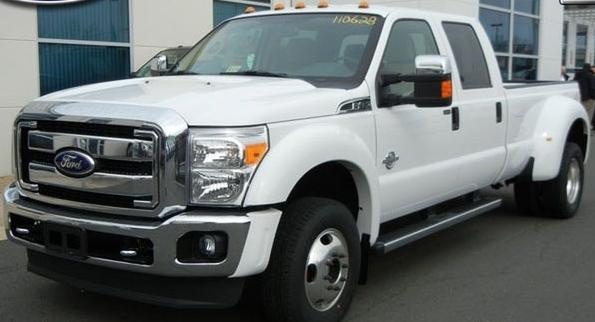front_view: (22, 111, 292, 281)
headlight: (178, 119, 284, 223)
side_glass: (362, 3, 510, 110)
